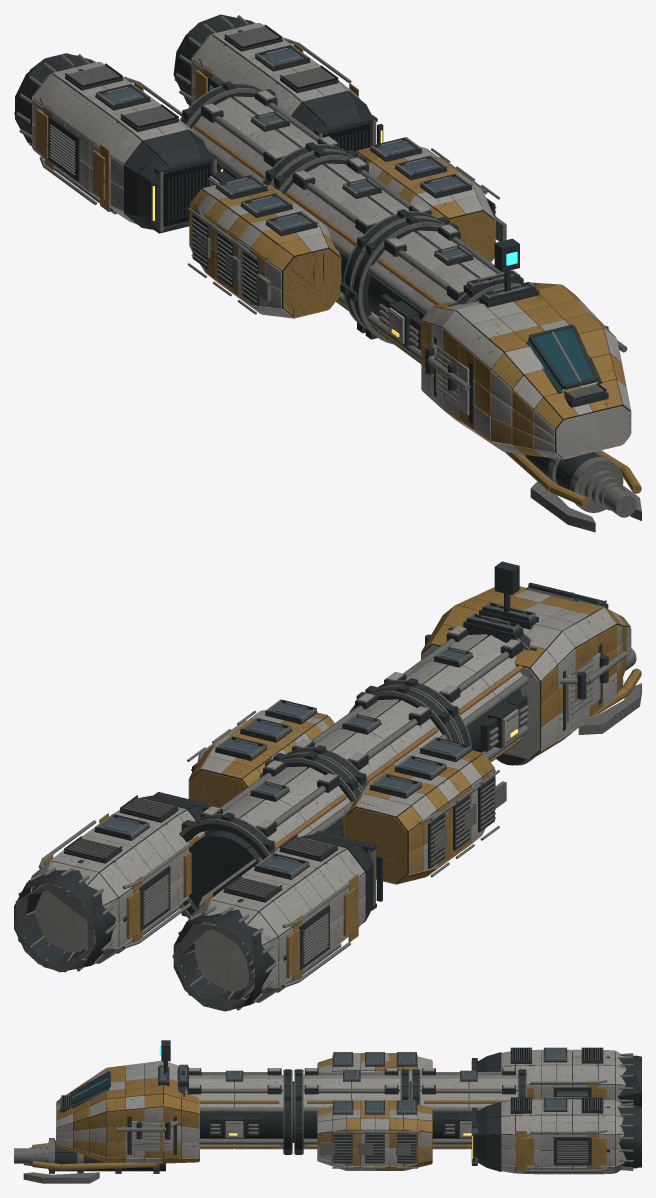
File: model-reduced.glb
3 views of the same model, one above another, from view 1: azimuth 30°, elevation 25°; view 2: azimuth 150°, elevation 25°; view 3: azimuth 270°, elevation 25° (orthographic). The views are drawn at different scales.
Parts seen in each view (by area): view 1: dark-structure, machined-alloy, pale-steel-1, ochre-0, pale-steel-0, pale-steel-2, ochre-1, blue-grey-1, recess-black, canopy-glass, ochre-2, service-ochre; view 2: dark-structure, machined-alloy, pale-steel-0, pale-steel-1, ochre-0, ochre-1, pale-steel-2, blue-grey-1, ochre-2, service-ochre, sample-pannier; view 3: dark-structure, machined-alloy, pale-steel-0, pale-steel-1, ochre-0, pale-steel-2, ochre-1, blue-grey-1, service-ochre, ochre-2, recess-black, profiled-drive (+3 smaller).
Boxes of the visible parts, x1,y1,x2,y2 form: dark-structure: (15, 14, 608, 489); machined-alloy: (14, 15, 641, 532); pale-steel-1: (200, 90, 631, 459); ochre-0: (190, 147, 641, 506); pale-steel-0: (32, 22, 488, 316); pale-steel-2: (202, 147, 496, 307); ochre-1: (36, 43, 495, 309); blue-grey-1: (101, 48, 530, 296); recess-black: (71, 31, 604, 399); canopy-glass: (526, 328, 599, 391); ochre-2: (189, 147, 487, 316); service-ochre: (194, 124, 441, 363); dark-structure: (14, 561, 608, 1011); machined-alloy: (15, 594, 641, 1010); pale-steel-0: (31, 710, 482, 1002); pale-steel-1: (203, 587, 631, 870); ochre-0: (189, 586, 641, 883); ochre-1: (43, 720, 494, 980); pale-steel-2: (209, 634, 522, 884); blue-grey-1: (100, 605, 529, 873); ochre-2: (197, 711, 489, 884); service-ochre: (274, 665, 521, 849); sample-pannier: (190, 716, 494, 883); dark-structure: (55, 1040, 641, 1171); machined-alloy: (14, 1047, 633, 1183); pale-steel-0: (318, 1049, 626, 1174); pale-steel-1: (56, 1053, 514, 1170); ochre-0: (32, 1053, 432, 1170); pale-steel-2: (186, 1056, 431, 1170); ochre-1: (318, 1053, 606, 1170); blue-grey-1: (160, 1049, 565, 1110); service-ochre: (199, 1100, 510, 1148); ochre-2: (318, 1070, 431, 1162); recess-black: (62, 1049, 602, 1111); profiled-drive: (501, 1050, 624, 1173).
Bounding box in the file's own units: 20.01 × 15 × 66.1.
15 materials, 12 textured.
